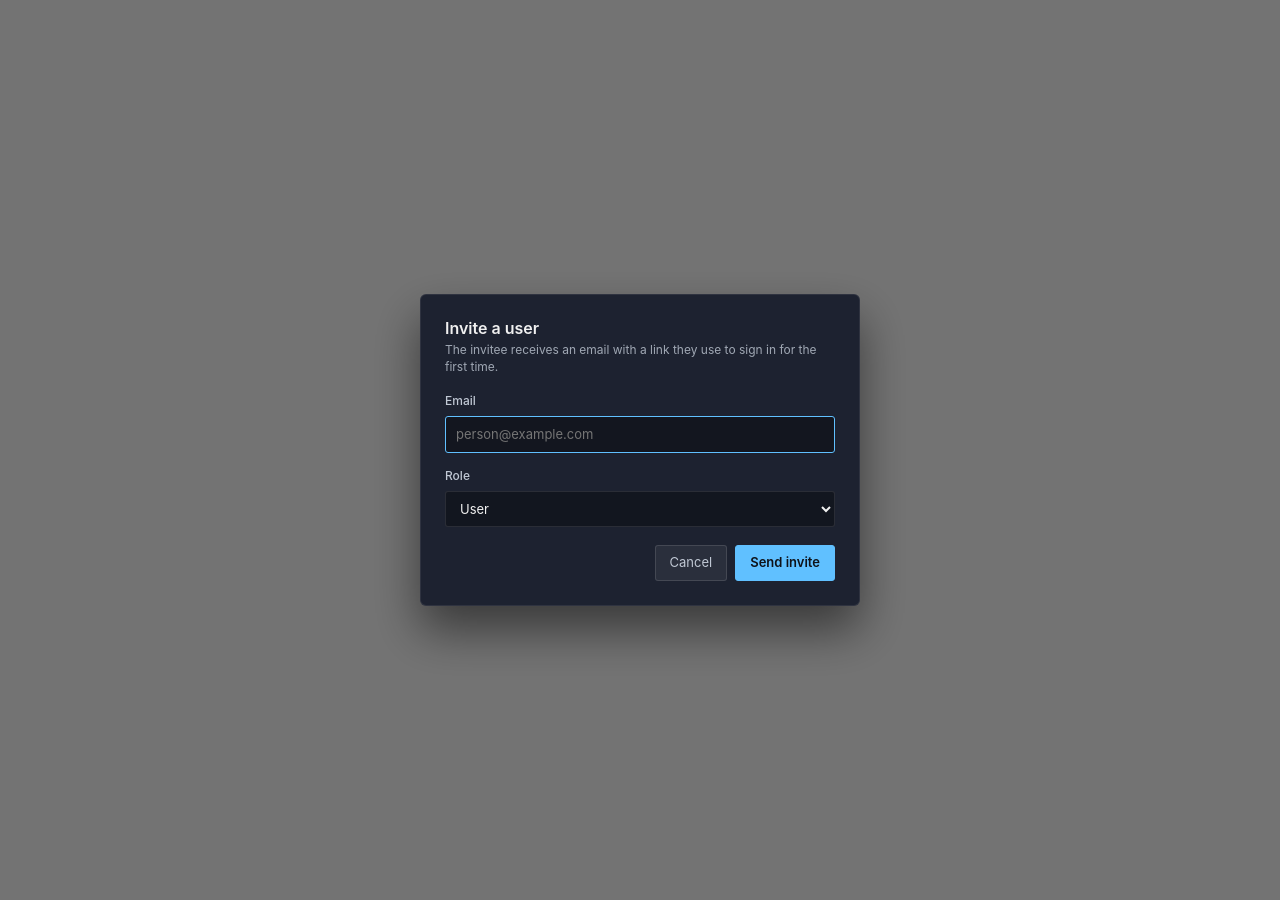
Test: InviteForm › posts JSON and shows the email-sent success state
The image size is (1280, 900).
Type "newperson@example.com" into the field with test id "invite-form-email".
click(640, 435); type("newperson@example.com")  # box [445,416,835,453]
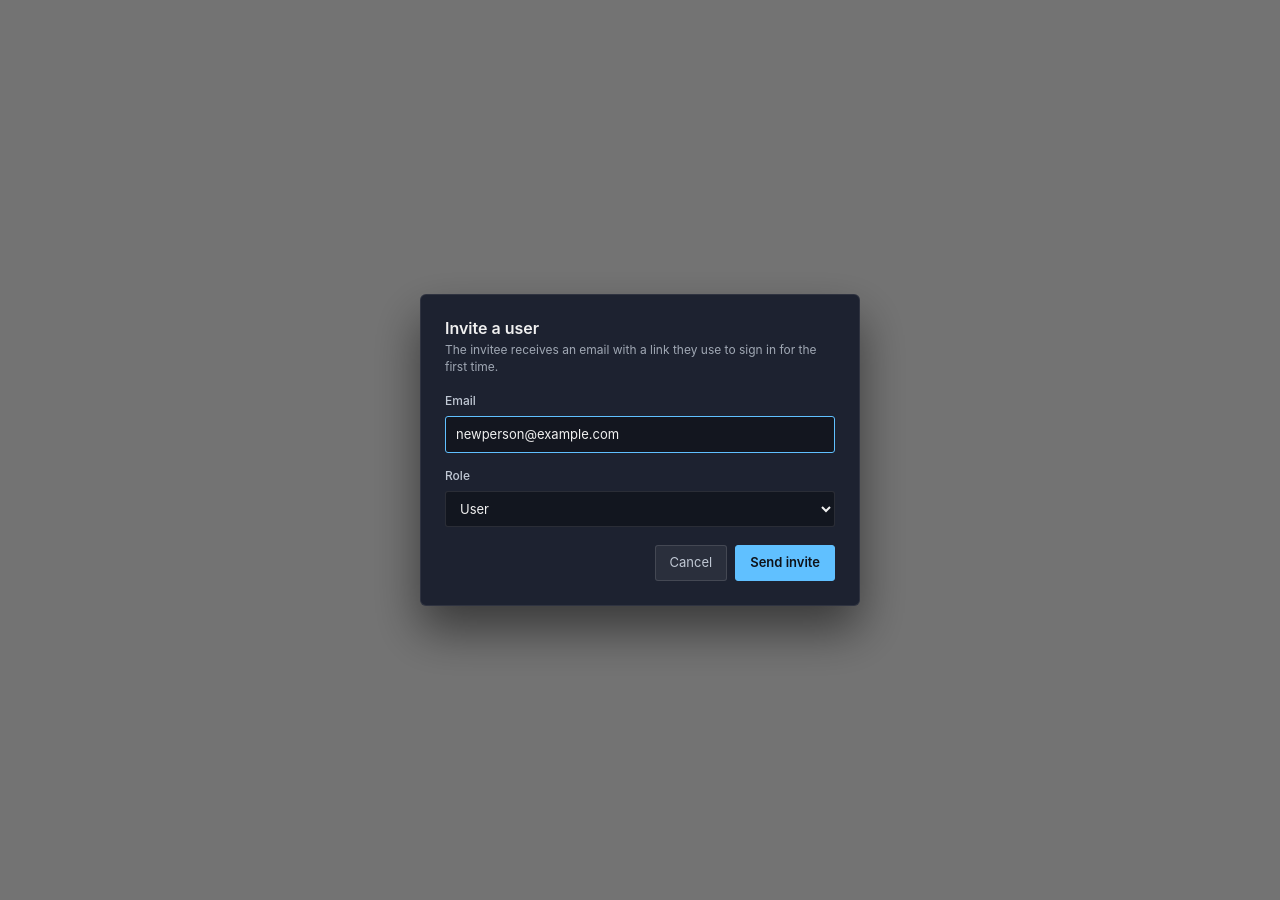
Click the button with test id "invite-form-submit".
click(785, 563)  # box [735,545,835,581]
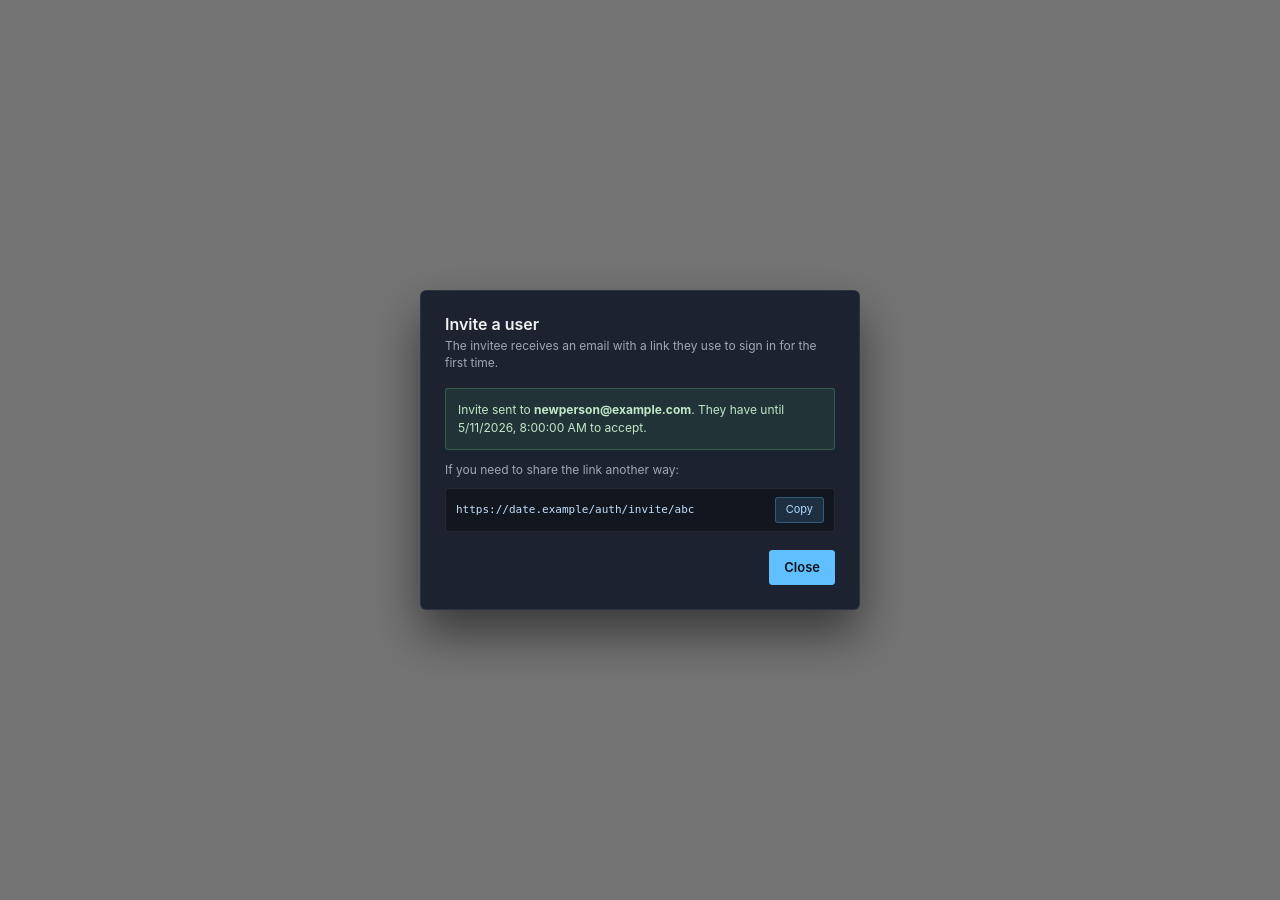
Now the element with test id "invite-form-success-sent" is shown, box [445,388,835,585]
Now the text with test id "invite-form-url" reads "https://date.example/auth/invite/abc", box [456,503,694,516]
